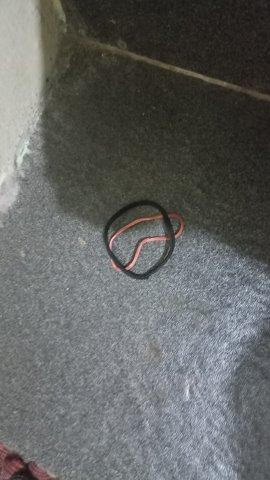karet: (103, 201, 186, 281)
